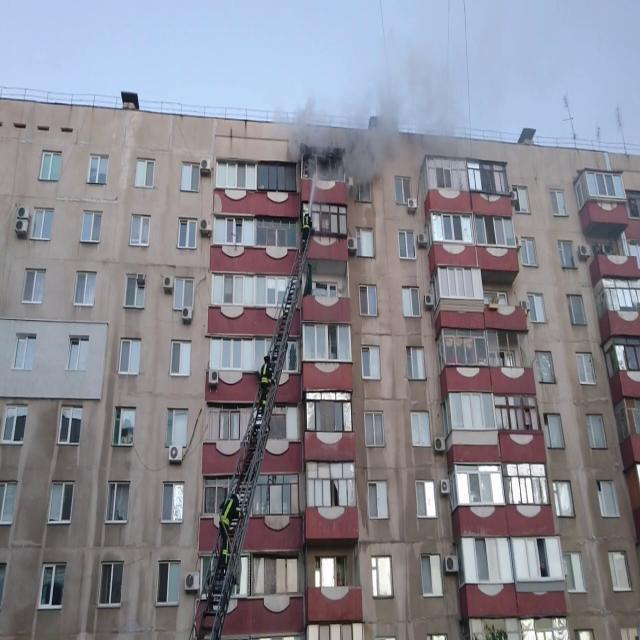Smoke: (356, 1, 454, 178), (282, 86, 331, 164)
